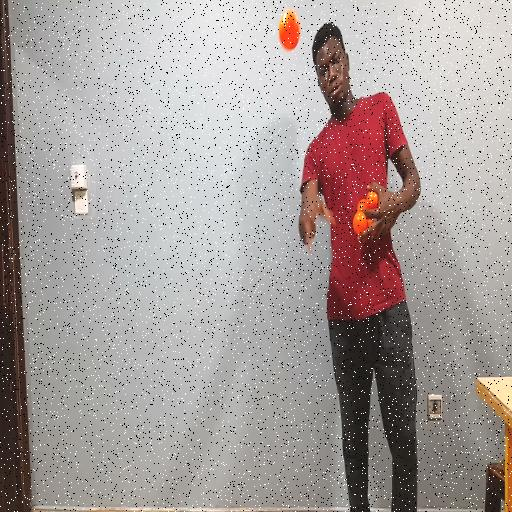plastic-ball: (276, 7, 303, 56)
